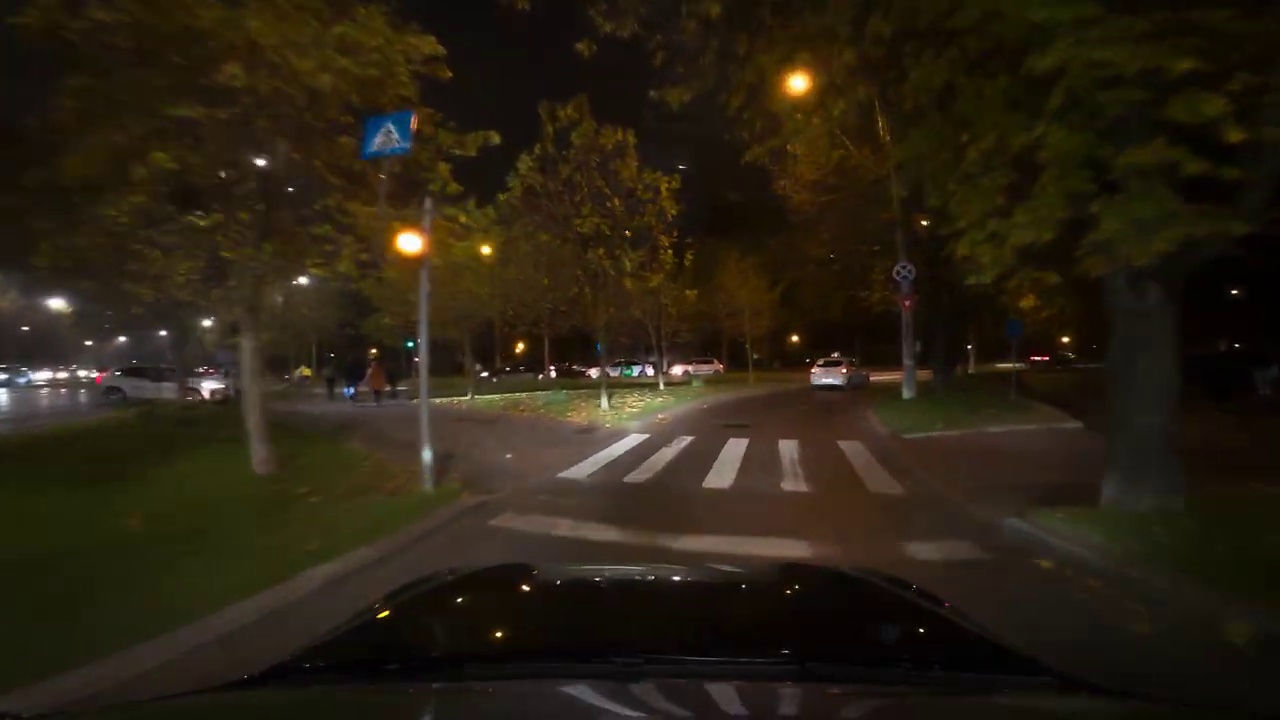acesa: (392, 226, 430, 263), (781, 68, 816, 100), (43, 294, 72, 317), (476, 240, 497, 263)
